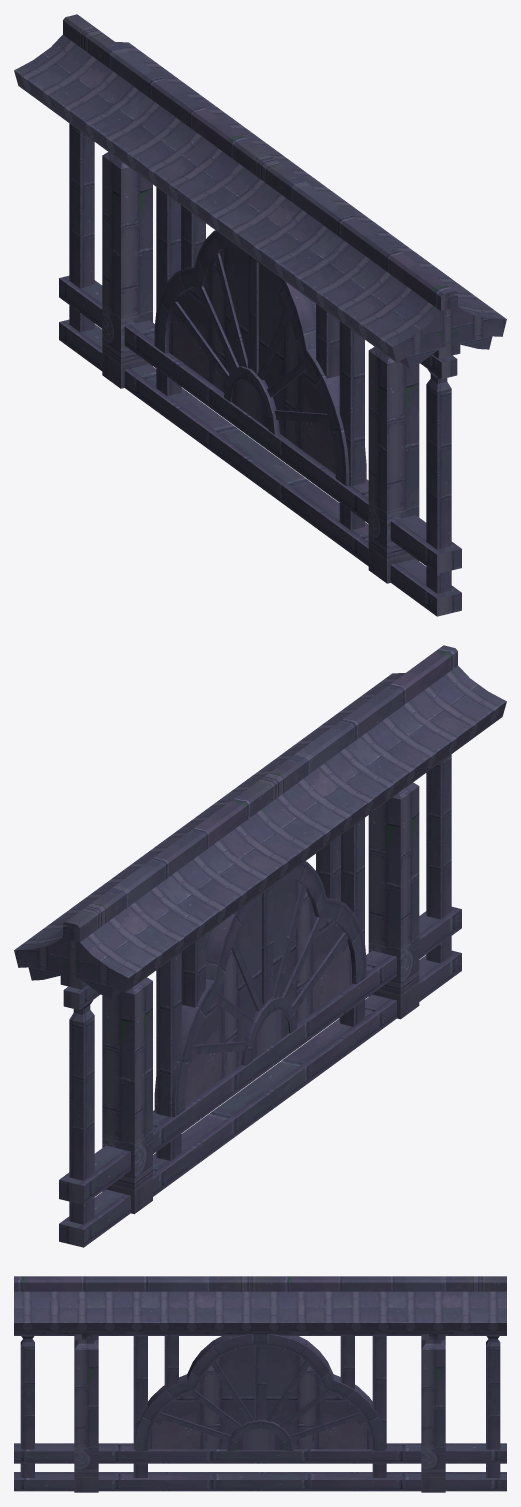
The model's file is Homeworld_Exterior_Dq_Build_House_06_Lod0.fbx.
3 views of the same model, one above another, from view 1: azimuth 30°, elevation 25°; view 2: azimuth 150°, elevation 25°; view 3: azimuth 270°, elevation 25° (orthographic). The views are drawn at different scales.
Parts seen in each view (by area): view 1: Homeworld_Exterior_Dq_Build_House_06_Lod0; view 2: Homeworld_Exterior_Dq_Build_House_06_Lod0; view 3: Homeworld_Exterior_Dq_Build_House_06_Lod0.
Part boxes in pixels (x1=…): Homeworld_Exterior_Dq_Build_House_06_Lod0: x1=14, y1=14, x2=506, y2=616; Homeworld_Exterior_Dq_Build_House_06_Lod0: x1=14, y1=645, x2=506, y2=1247; Homeworld_Exterior_Dq_Build_House_06_Lod0: x1=14, y1=1276, x2=506, y2=1492.
Size of the model in its own units: 1.4 by 3.75 by 8.
